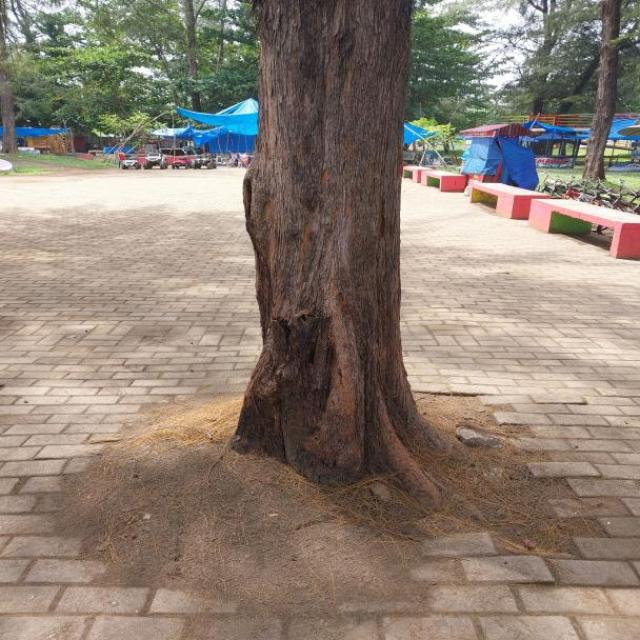tree ahead at: (232, 0, 440, 506)
